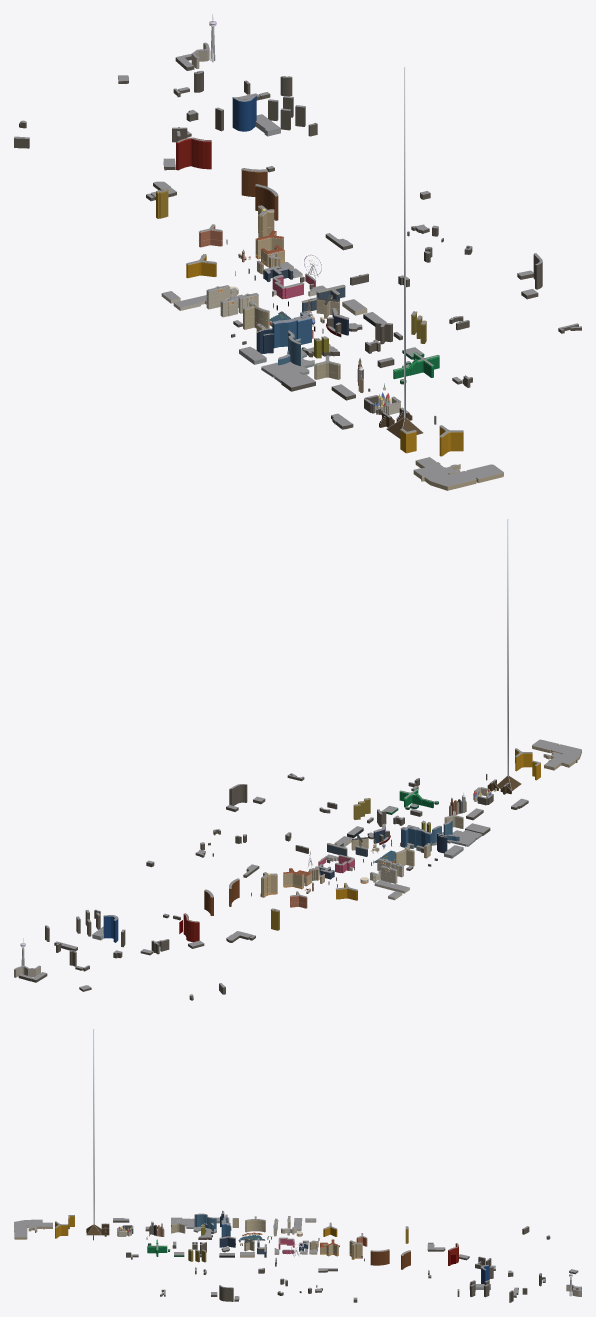
The model's file is vegas_strip.glb.
The picture shows the model from 3 angles, top to bottom: view 1: azimuth 30°, elevation 25°; view 2: azimuth 150°, elevation 25°; view 3: azimuth 270°, elevation 25°; orthographic projection. The views are drawn at different scales.
Visible parts, largest first — view 1: b_w116660354, b_w316303708, b_w134068318, b_w52175576, luxor_beam, b_w27910891, b_w27858550; view 2: b_w116660354; view 3: b_w116660354, luxor_beam.
Part boxes in pixels (x1,y1,x2,y2): b_w116660354: [413, 457, 503, 490]; b_w316303708: [176, 137, 211, 170]; b_w134068318: [232, 95, 256, 131]; b_w52175576: [261, 348, 314, 382]; luxor_beam: [404, 67, 405, 417]; b_w27910891: [241, 168, 267, 196]; b_w27858550: [439, 425, 463, 456]; b_w116660354: [532, 739, 581, 770]; b_w116660354: [14, 1219, 52, 1239]; luxor_beam: [93, 1029, 94, 1224].
Size of the model in its own units: 2378 by 2707 by 6870.
